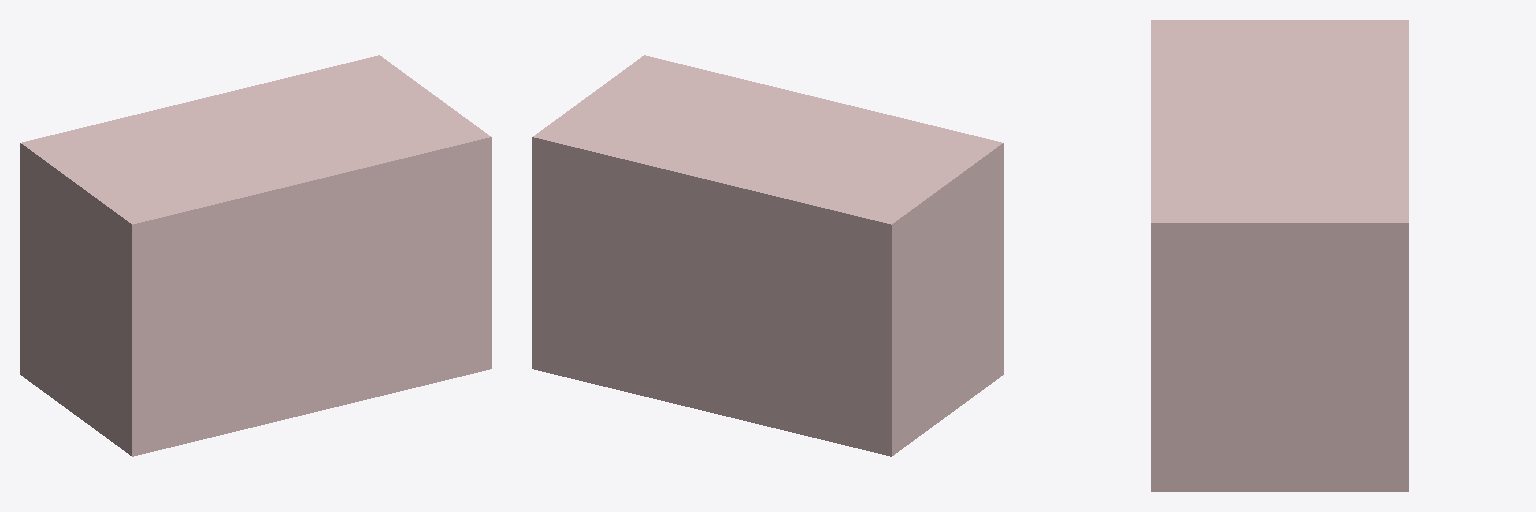
The robot description file, URDF, robot "box.urdf":
<?xml version="1.0" ?>
<robot name="box.urdf">
  <link name="baseLink">
    <contact>
      <lateral_friction value="1.0"/>
      <rolling_friction value="0.0001"/>
      <inertia_scaling value="3.0"/>
    </contact>
    <inertial>
      <origin rpy="0 0 0" xyz="0 0 0"/>
       <mass value="0.1"/>
       <inertia ixx="1" ixy="0" ixz="0" iyy="1" iyz="0" izz="1"/>
    </inertial>
    <visual>
      <origin rpy="0 0 0" xyz="0 0 0"/>
      <geometry>
        <!-- <box size="0.319 0.172 0.19699999999999998"/> -->
        <mesh filename="box/box.obj" scale="0.319 0.172 0.19699999999999998"/>
      </geometry>
      <material name="white">
        <color rgba="0.9 0.8 0.8 1"/>
      </material>
    </visual>
    <collision>
      <origin rpy="0 0 0" xyz="0 0 0"/>
      <geometry>
        <mesh filename="box/box.obj" scale="0.319 0.172 0.19699999999999998"/>
	 	    <!-- <box size="0.319 0.172 0.19699999999999998"/> -->
      </geometry>
    </collision>
  </link>
</robot>

--- What the picture shows (computed from the rendered views, not written in the file) ---
The picture shows the robot from 3 angles, left to right: view 1: azimuth 30°, elevation 25°; view 2: azimuth 150°, elevation 25°; view 3: azimuth 270°, elevation 25°; orthographic projection.
Model box.urdf with 1 links and 0 joints (none), rooted at baseLink, posed all joints at 0.
Visible links, largest first — view 1: baseLink; view 2: baseLink; view 3: baseLink.
Boxes of the visible links, left/top/right/bottom form: baseLink: left=20, top=55, right=491, bottom=456; baseLink: left=532, top=55, right=1003, bottom=456; baseLink: left=1151, top=20, right=1408, bottom=491.
Bounding box of the posed robot: 0.319 × 0.172 × 0.197 m (x, y, z).
Meshes: 1 distinct files referenced, 1 mesh visuals loaded (1 OBJ).
